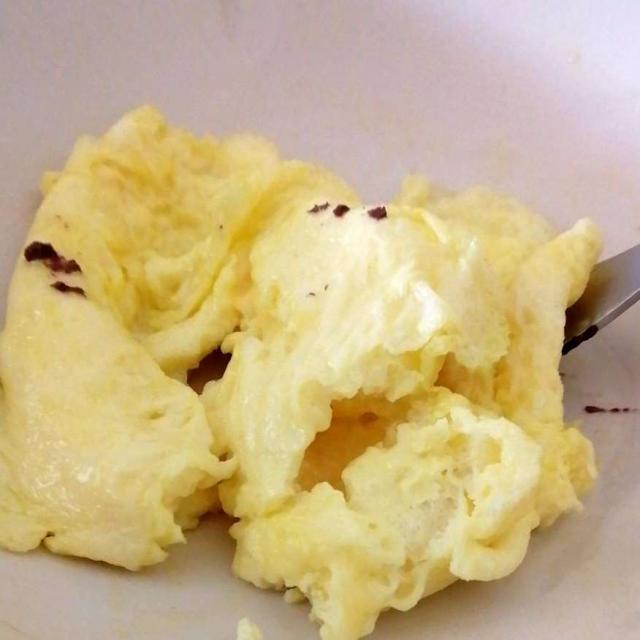eggs: (27, 120, 585, 611)
